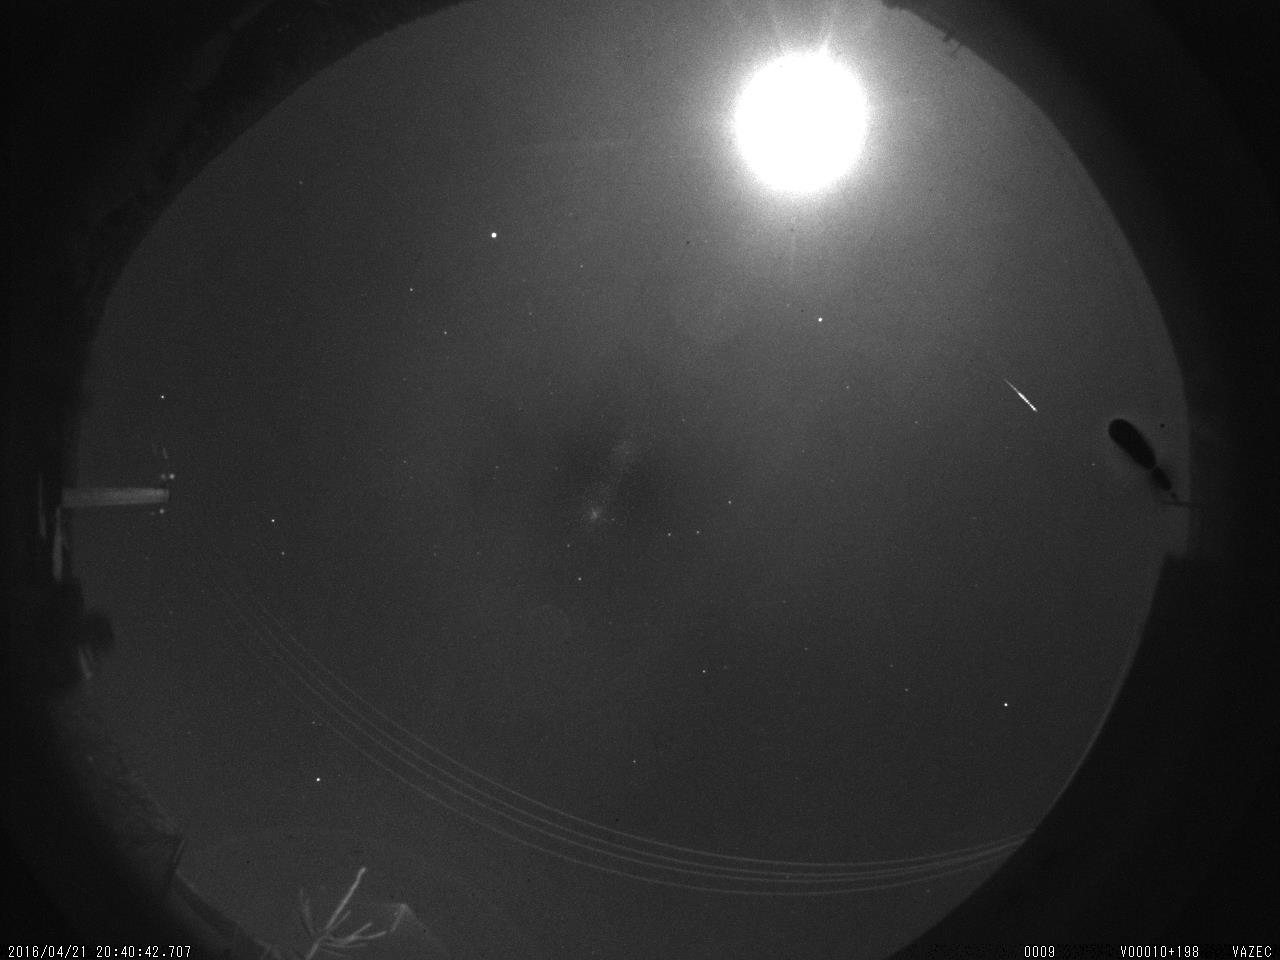meteor: (992, 366, 1049, 425)
